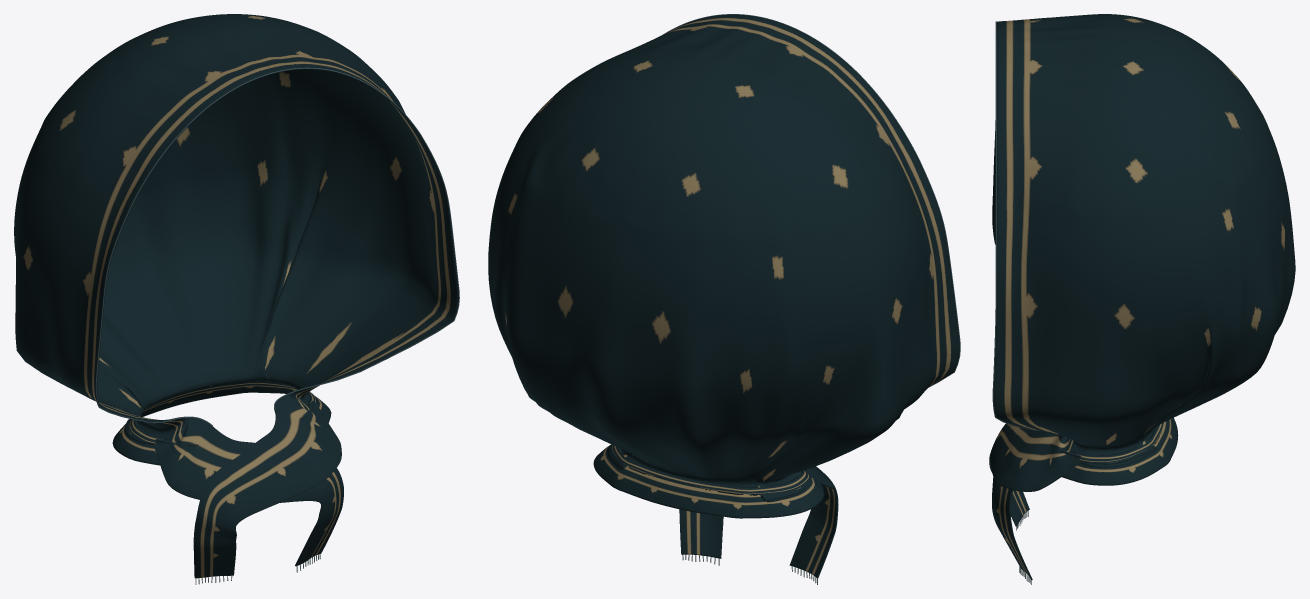
Rendered from Feminine-strappy-pashmina239-headgear.glb.
3 renders of one model, left to right at view 1: azimuth 30°, elevation 25°; view 2: azimuth 150°, elevation 25°; view 3: azimuth 270°, elevation 25°, orthographic. The views are drawn at different scales.
Parts seen in each view (by area): view 1: 226 headgear / Headwear / continuous woven pashmina239, 226 headgear / Headwear / face edge239; view 2: 226 headgear / Headwear / continuous woven pashmina239, 226 headgear / Headwear / face edge239; view 3: 226 headgear / Headwear / continuous woven pashmina239, 226 headgear / Headwear / face edge239.
Boxes of the visible parts, x1,y1,x2,y2 form: 226 headgear / Headwear / continuous woven pashmina239: (14, 14, 458, 578); 226 headgear / Headwear / face edge239: (95, 67, 459, 425); 226 headgear / Headwear / continuous woven pashmina239: (488, 14, 959, 578); 226 headgear / Headwear / face edge239: (663, 14, 960, 387); 226 headgear / Headwear / continuous woven pashmina239: (989, 14, 1295, 579); 226 headgear / Headwear / face edge239: (992, 21, 1042, 430).
Size of the model in its own units: 1.02 by 1.35 by 0.7183.
Materials: 3 (1 with a texture image).
